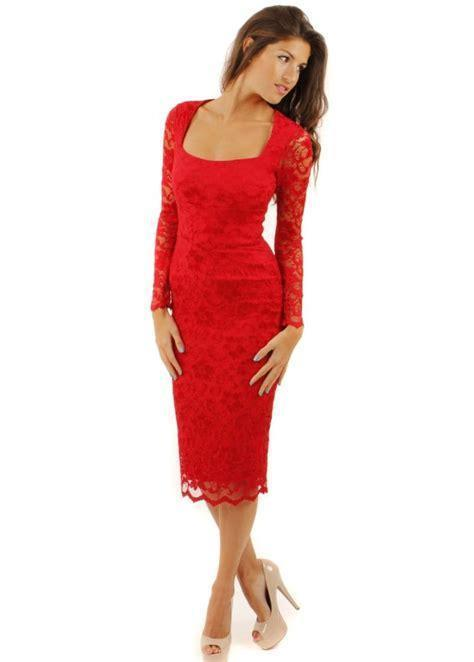dress: (151, 100, 314, 502)
